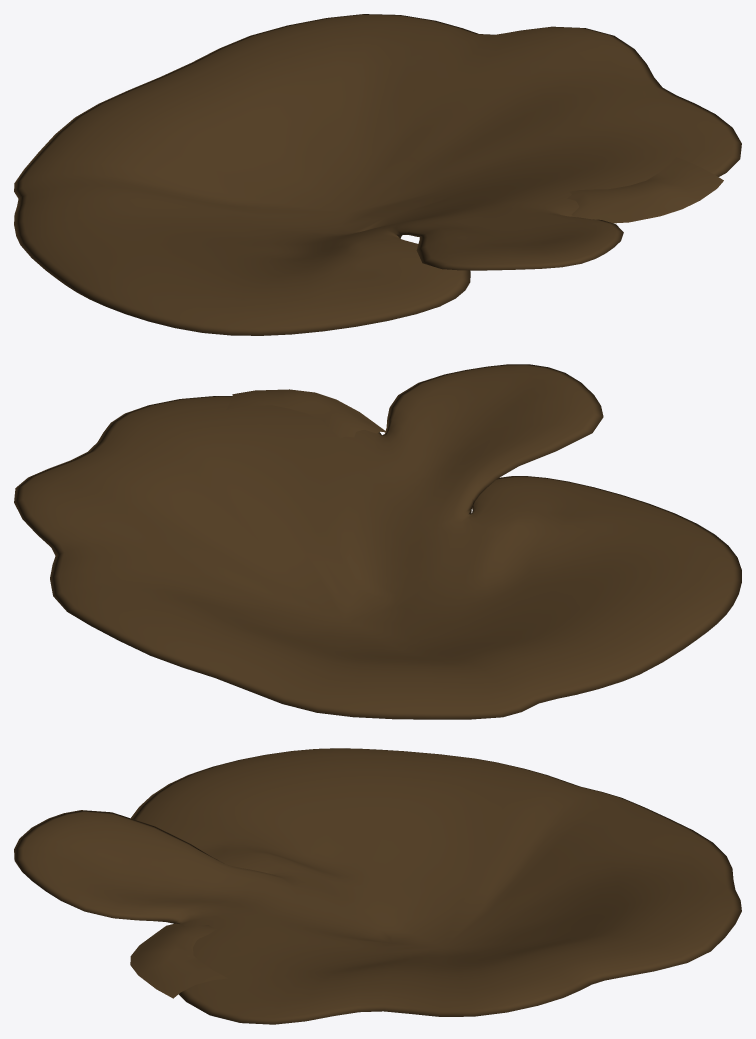
Rendered from SM_Coral_Plate_Montipora_01.obj.
The picture shows the model from 3 angles, top to bottom: view 1: azimuth 30°, elevation 25°; view 2: azimuth 150°, elevation 25°; view 3: azimuth 270°, elevation 25°; orthographic projection. The views are drawn at different scales.
Visible parts, largest first — view 1: SM_Coral_Plate_Montipora_01_LOD0; view 2: SM_Coral_Plate_Montipora_01_LOD0; view 3: SM_Coral_Plate_Montipora_01_LOD0.
Boxes of the visible parts, <box> form: SM_Coral_Plate_Montipora_01_LOD0: <box>14,14,741,335</box>; SM_Coral_Plate_Montipora_01_LOD0: <box>14,364,741,719</box>; SM_Coral_Plate_Montipora_01_LOD0: <box>14,748,741,1024</box>.
Size of what is drawn, in the model's own units: 202 by 32.72 by 199.
